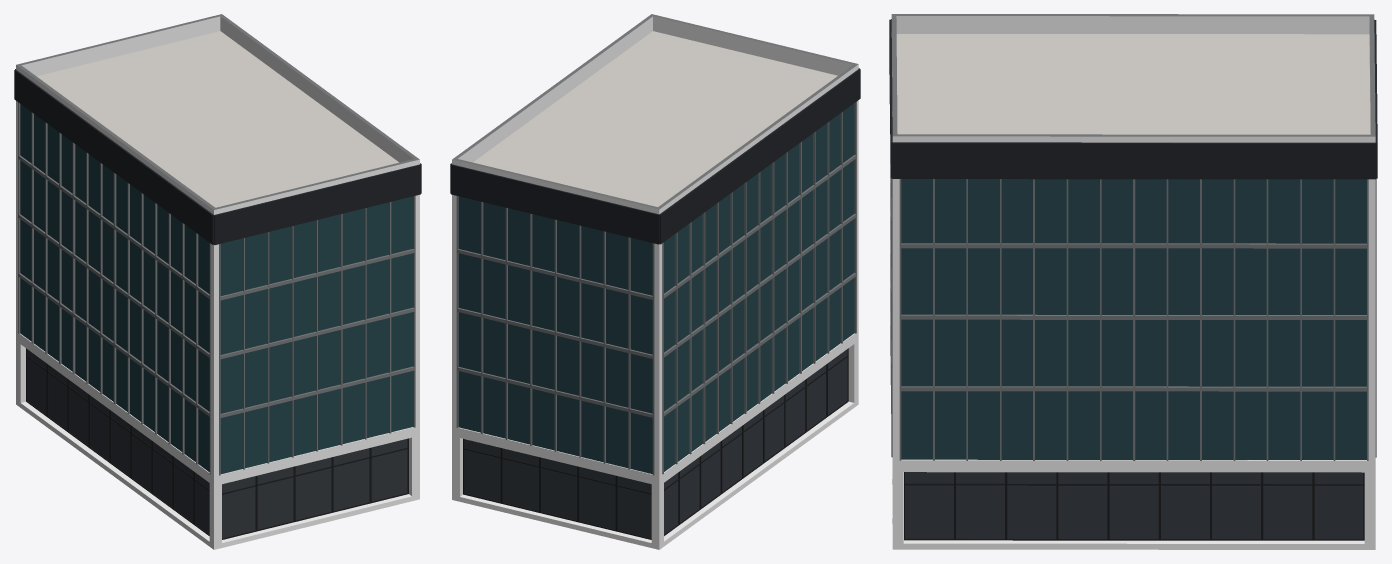
File: momog.glb
The picture shows the model from 3 angles, left to right: view 1: azimuth 30°, elevation 25°; view 2: azimuth 150°, elevation 25°; view 3: azimuth 270°, elevation 25°; orthographic projection. The views are drawn at different scales.
Parts seen in each view (by area): view 1: momog; view 2: momog; view 3: momog.
Part boxes in pixels (x1,y1,x2,y2): momog: (14,14,421,549); momog: (450,14,860,549); momog: (889,14,1377,549).
Bounding box in the file's own units: 13.45 × 20.8 × 22.28.
